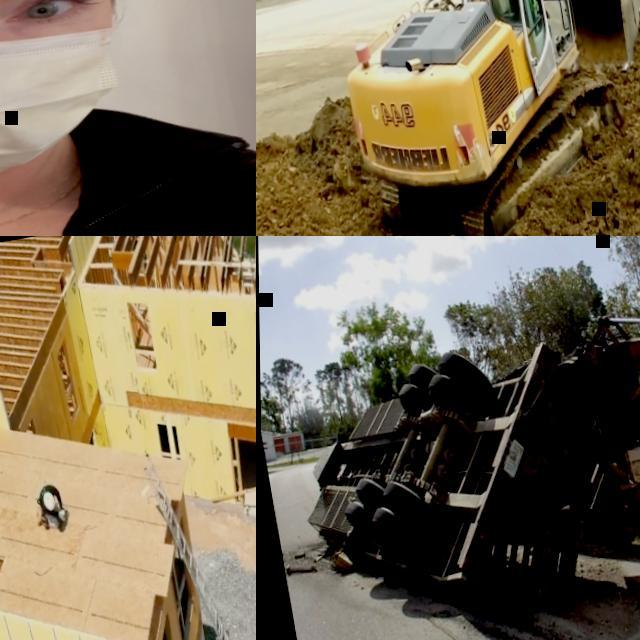helmet: (41, 492, 55, 513)
vest: (526, 0, 536, 11)
